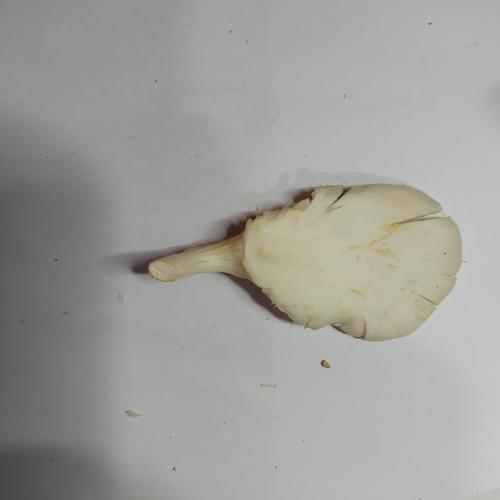Oyster Mushroom: (146, 182, 464, 343)
